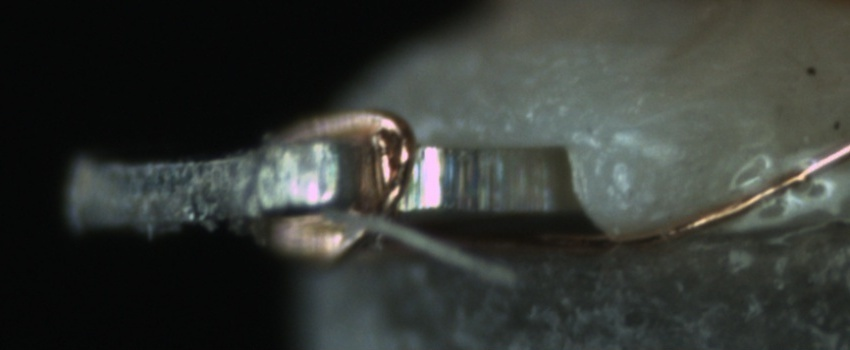TE: (287, 102, 423, 233)
